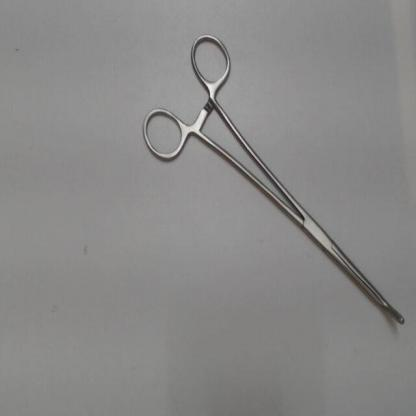Lahey Forceps: (139, 22, 412, 340)
